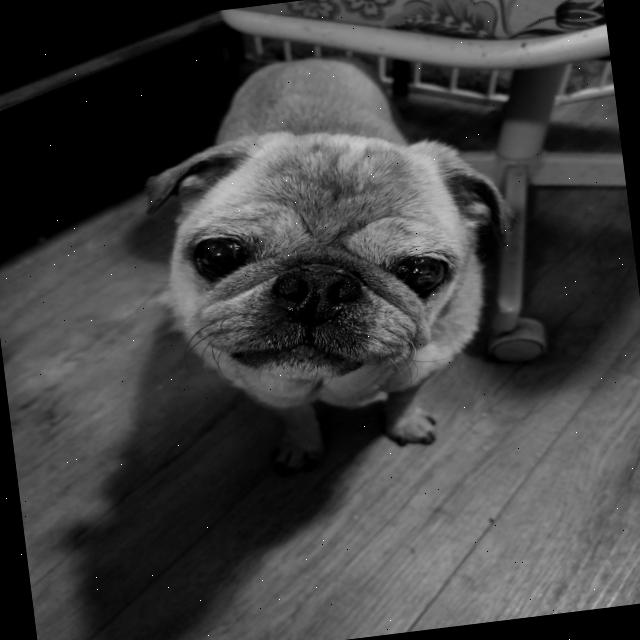pug_dog: (122, 90, 542, 420)
